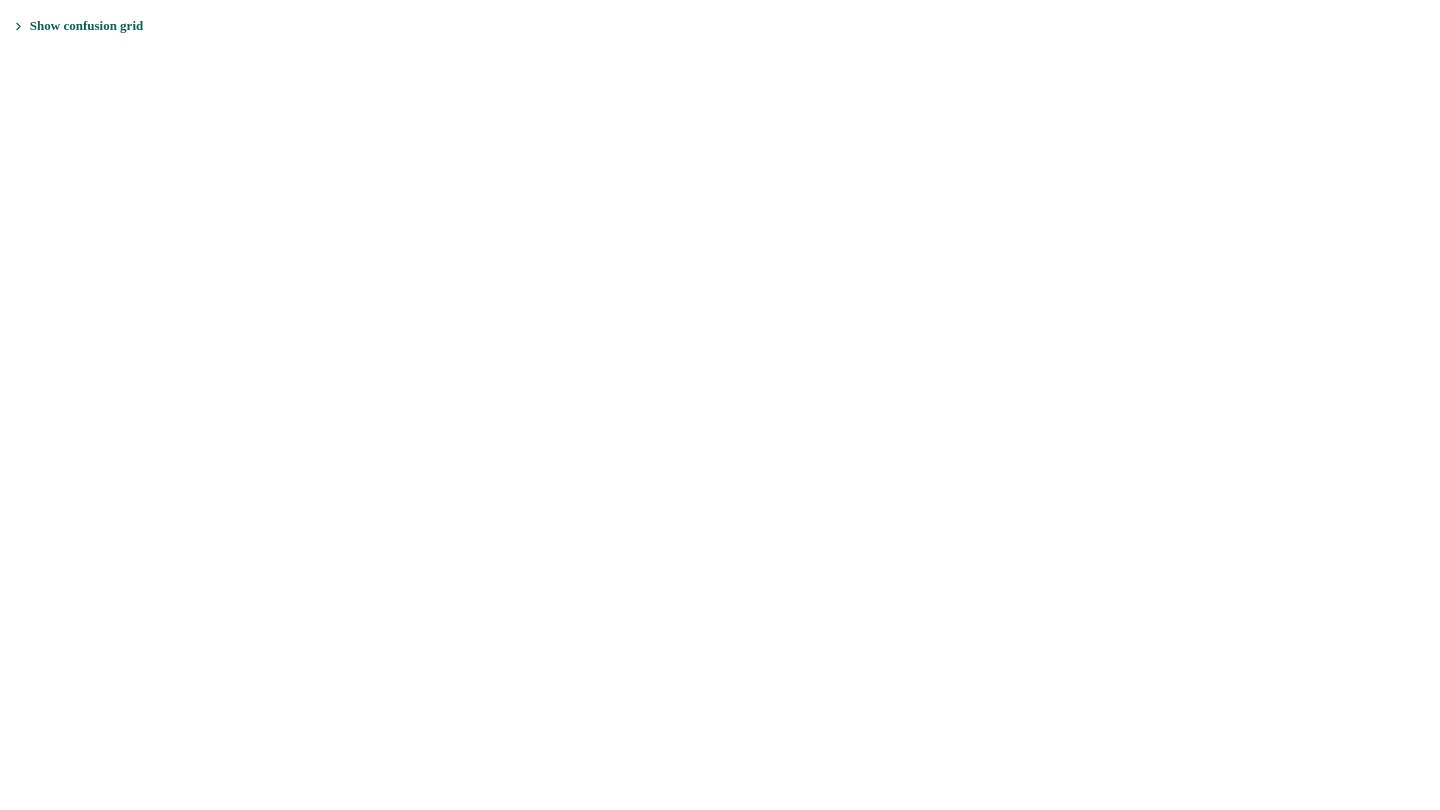
keeps the data twin behind Show data
This screenshot has width=1440, height=810.
Click the button "Show confusion grid".
click(78, 26)  # box [8,16,147,37]
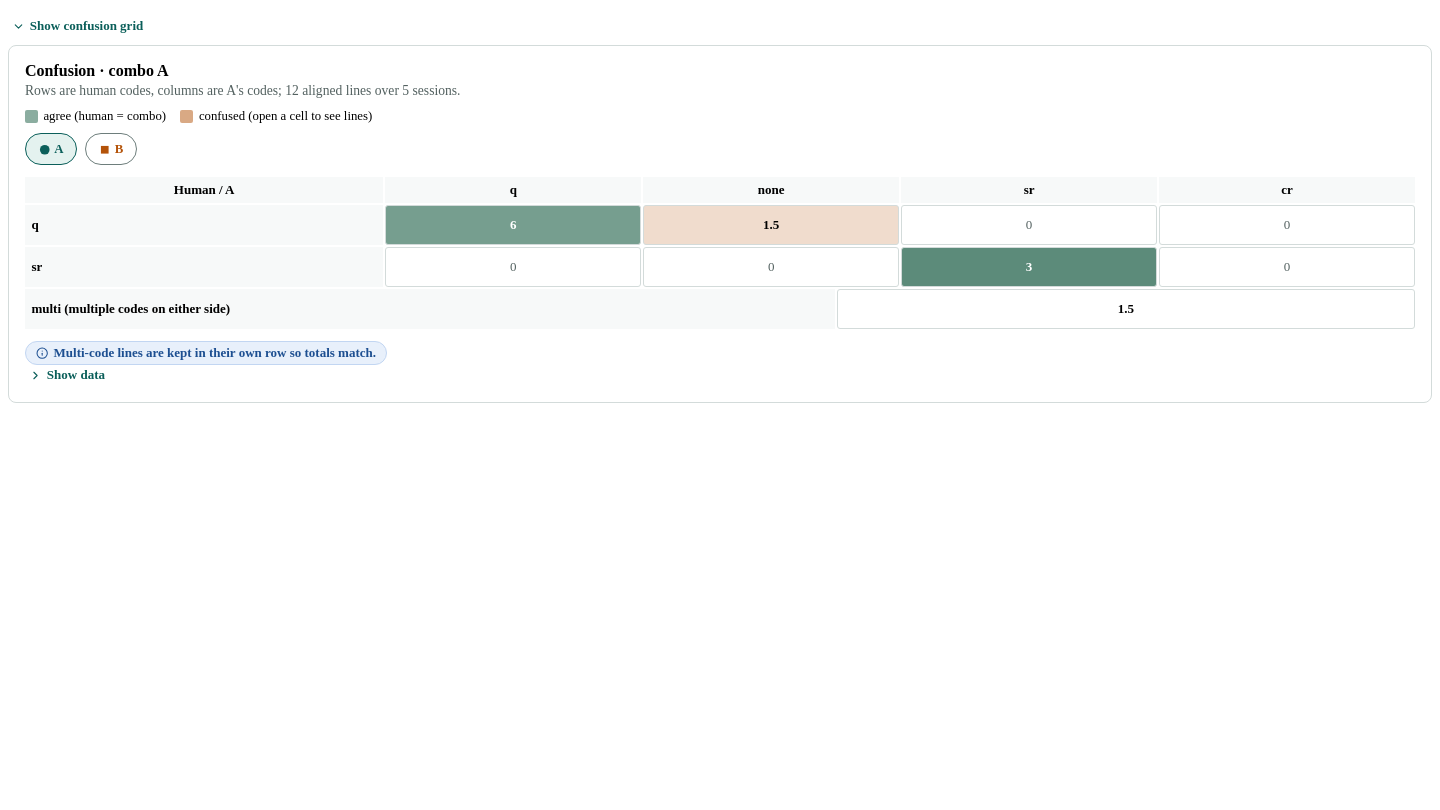
Click the button "Show data".
click(67, 375)  # box [25,365,109,385]
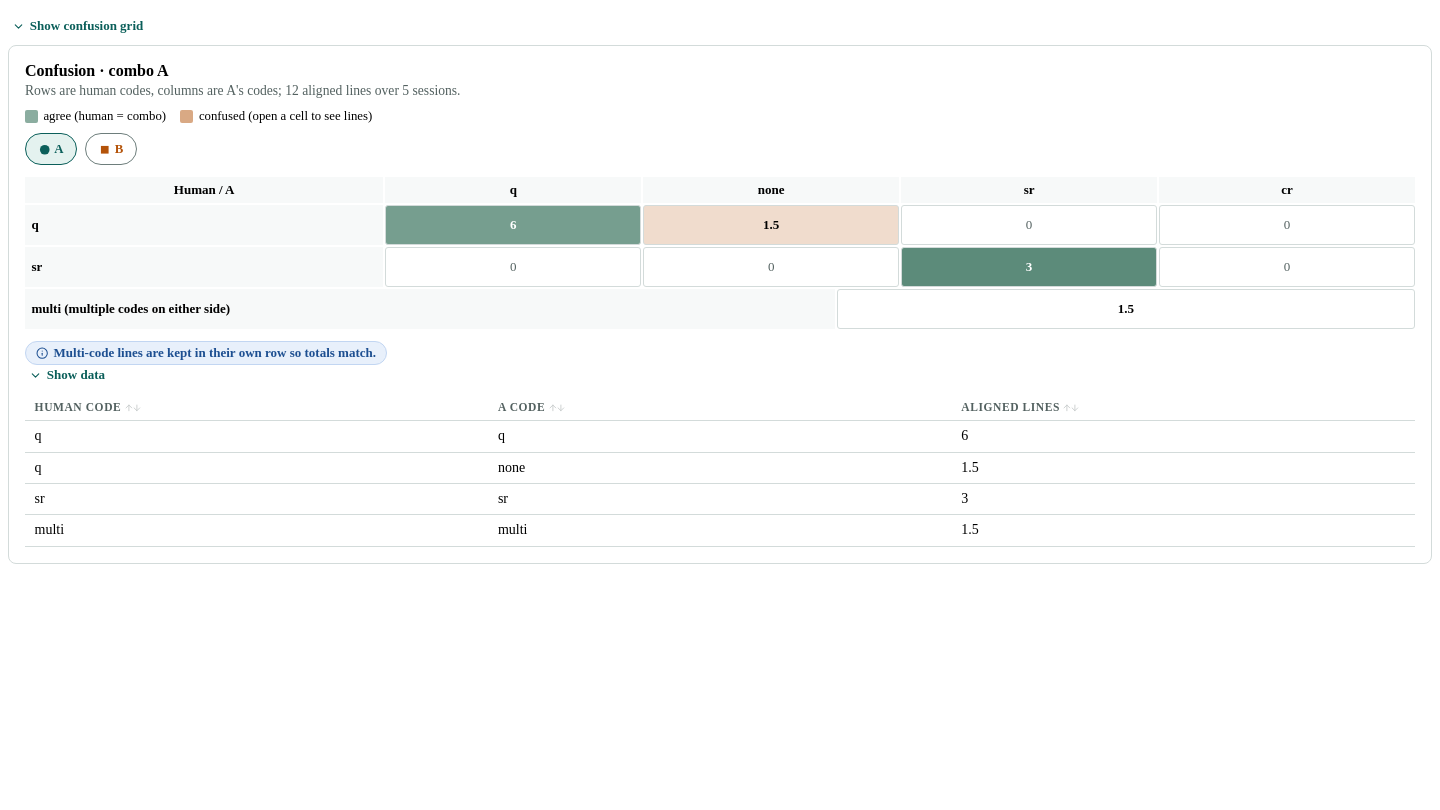
Now the table named "Confusion data" shows "multi", box [35,522,64,537]
